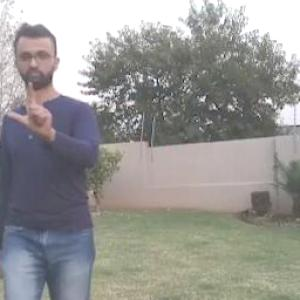land_hand: (5, 74, 57, 135)
